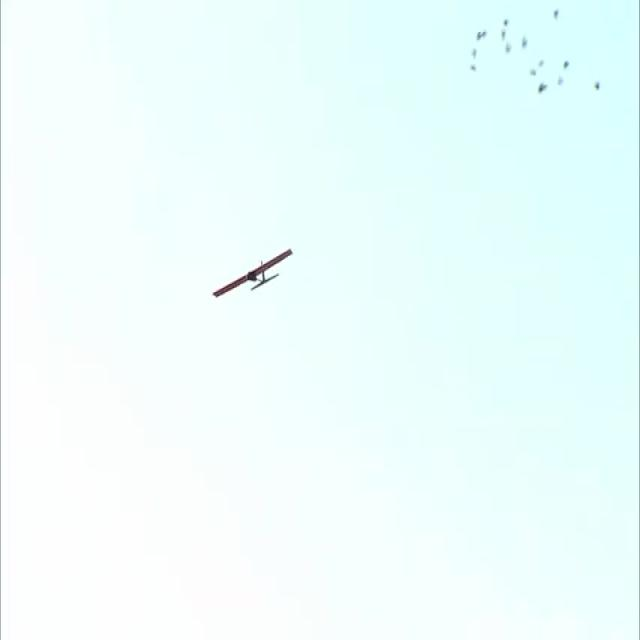iha: (243, 246, 262, 299)
